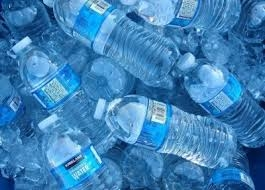plastic: (11, 37, 121, 157), (86, 97, 242, 169), (51, 1, 187, 82), (181, 51, 263, 150), (36, 116, 123, 190)
